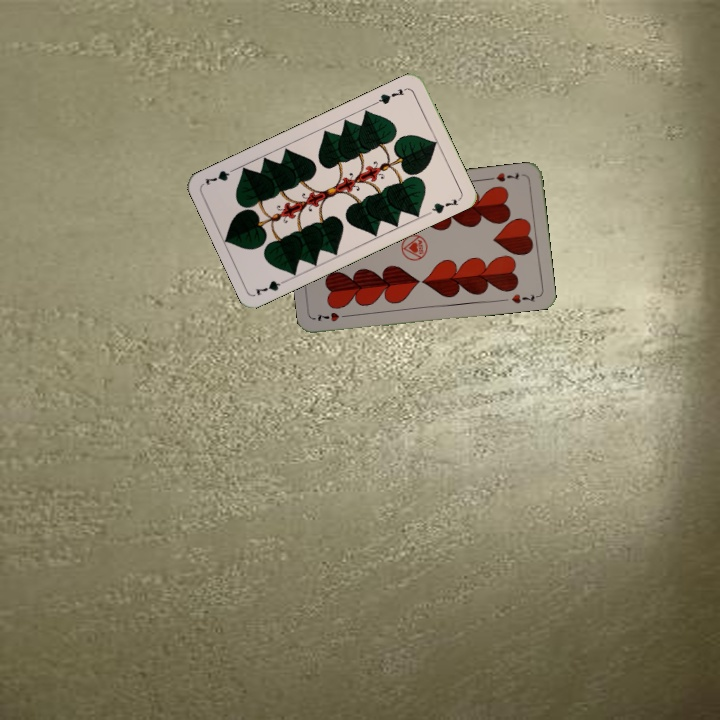G7: (251, 275, 291, 298), (372, 84, 410, 107)
H7: (313, 308, 352, 324), (493, 168, 522, 185)
